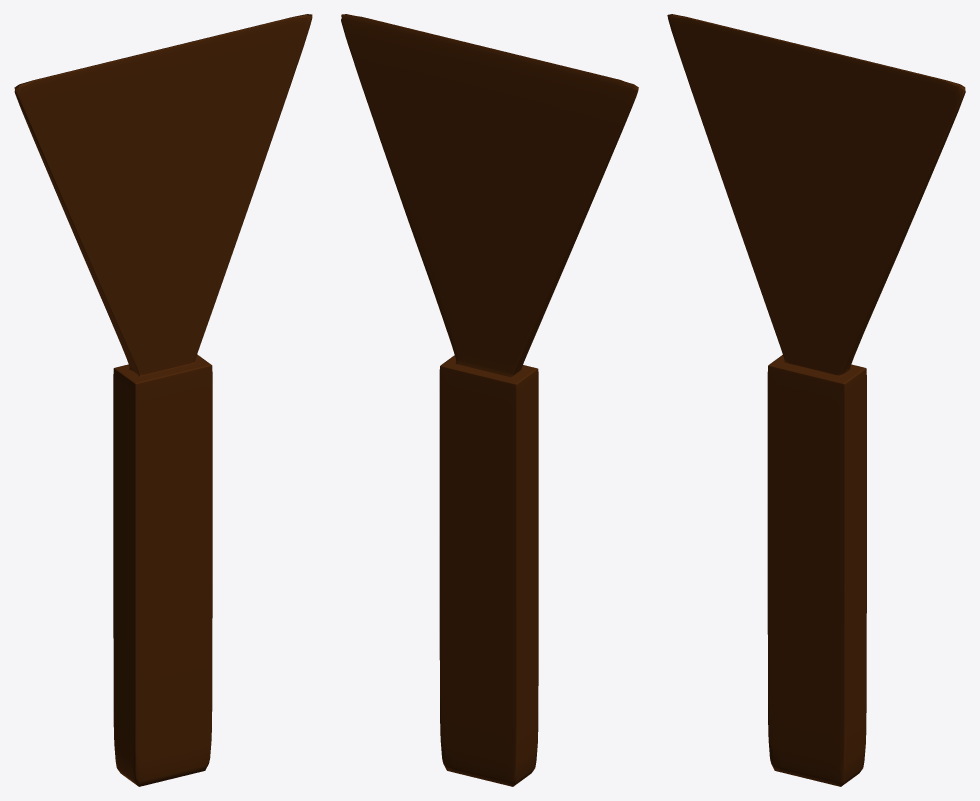
File: SpatulaBronze02.fbx
3 renders of one model, left to right at view 1: azimuth 30°, elevation 25°; view 2: azimuth 150°, elevation 25°; view 3: azimuth 330°, elevation 25°, orthographic.
Visible parts, largest first — view 1: pasted__pasted__HighPoly2; view 2: pasted__pasted__HighPoly2; view 3: pasted__pasted__HighPoly2.
Part boxes in pixels (x1=…): pasted__pasted__HighPoly2: x1=14, y1=14, x2=312, y2=786; pasted__pasted__HighPoly2: x1=341, y1=14, x2=638, y2=786; pasted__pasted__HighPoly2: x1=667, y1=14, x2=965, y2=786.
Size of the model in its own units: 7.69 by 17.84 by 1.
